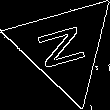N_E: (34, 21, 94, 74)
